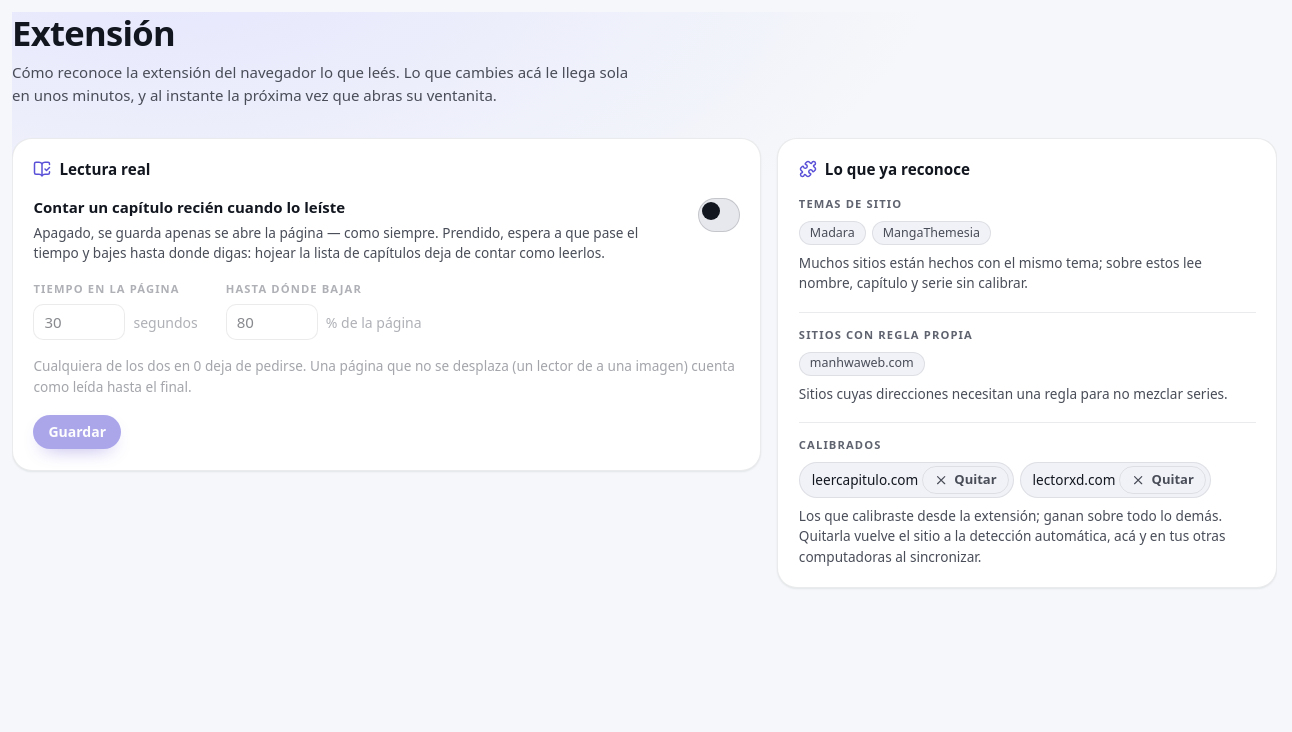
Test: ExtensionView › saves the whole form when it is turned on
Click the switch labelled "Contar un capítulo recién cuando lo leíste".
click(719, 215)  # box [698,198,740,232]
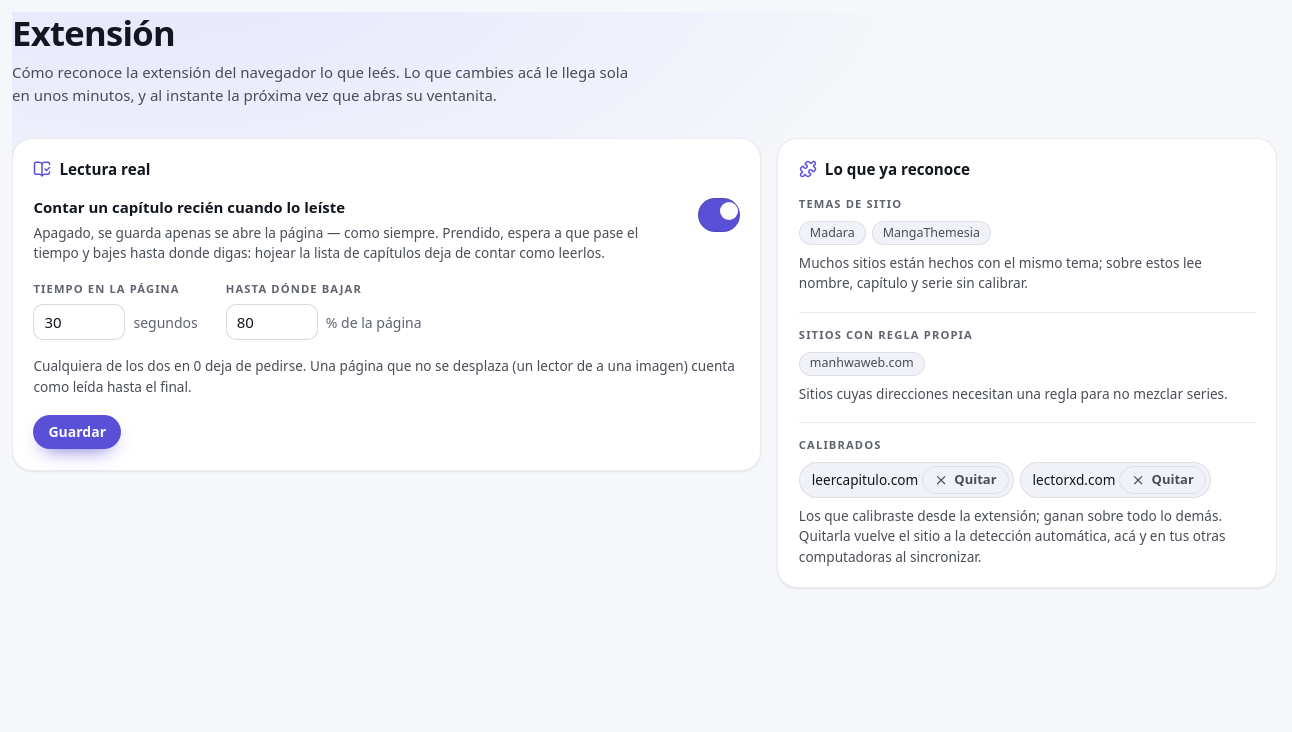
Replace the text in the number field labelled "Tiempo en la página segundos" with "45" at (80, 322), box [34,304,126,340]
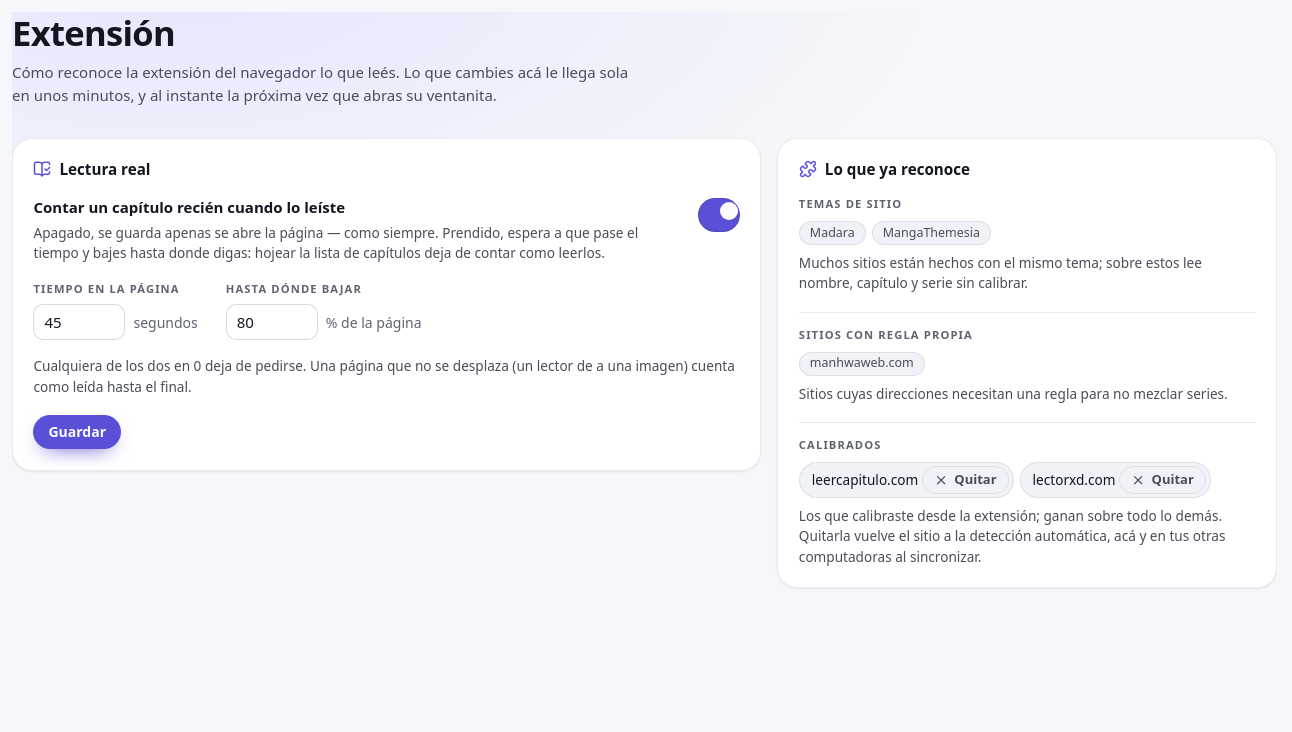
Click the button "Guardar".
click(77, 432)  # box [34,415,121,449]
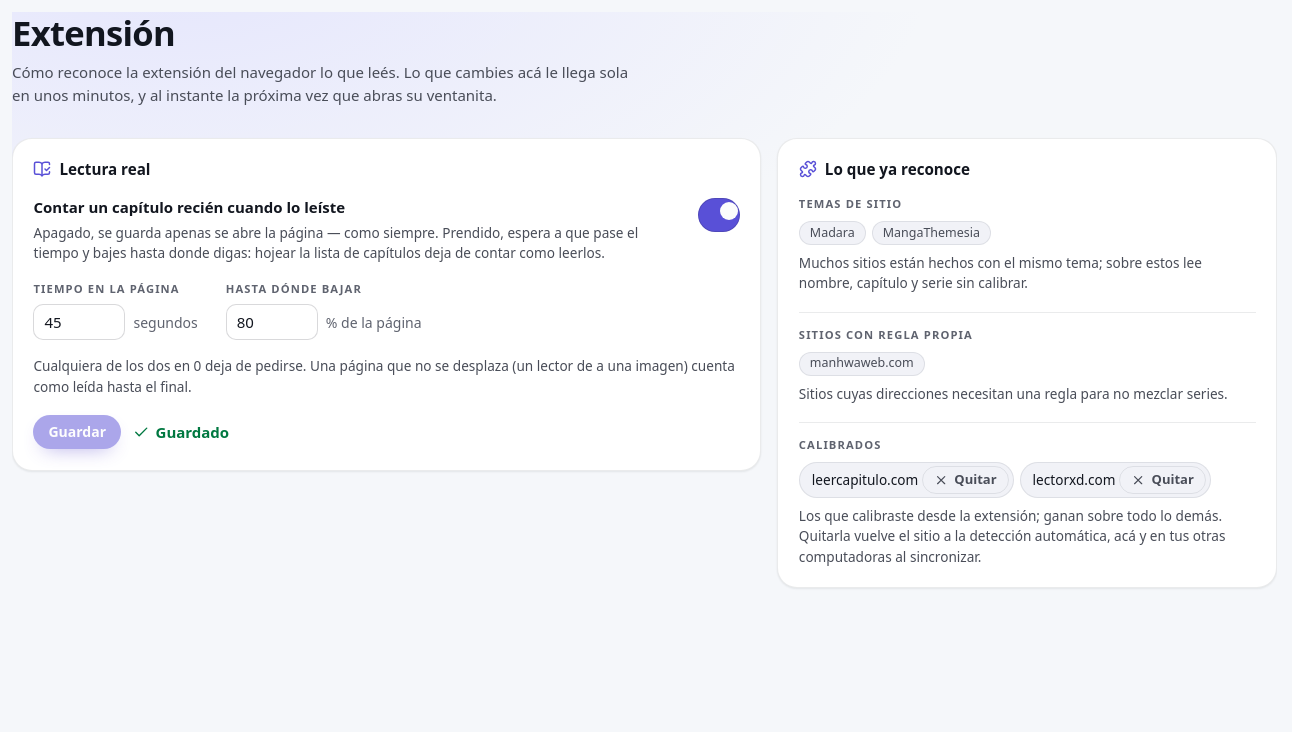
expect the text "Guardado" is shown: met, box [133,421,229,443]
